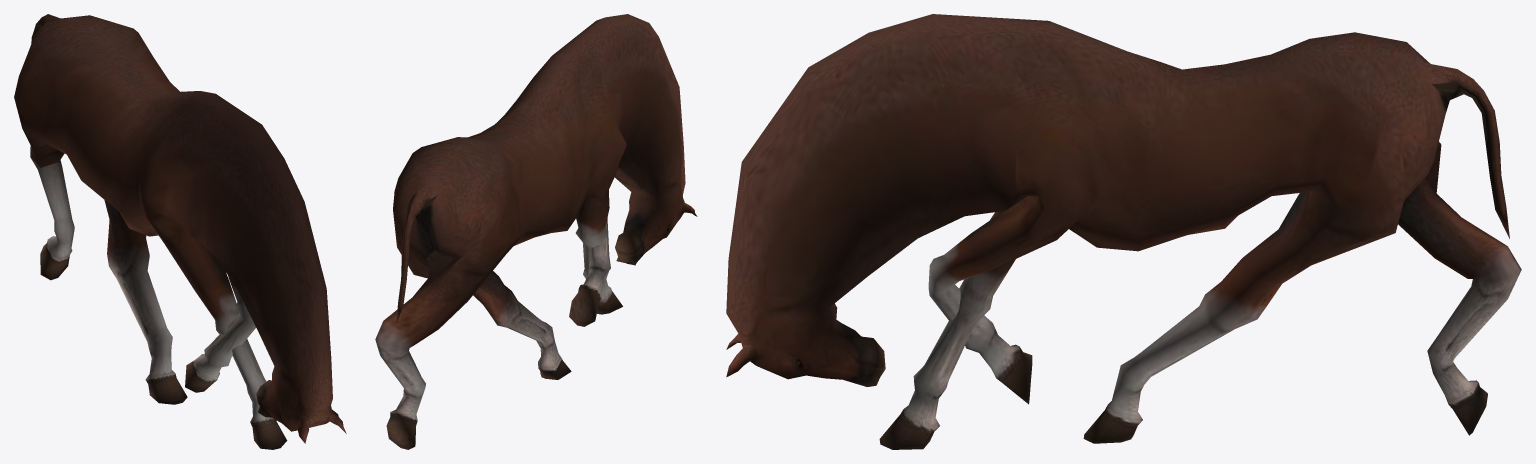
File: horse.glb
The picture shows the model from 3 angles, left to right: view 1: azimuth 30°, elevation 25°; view 2: azimuth 150°, elevation 25°; view 3: azimuth 270°, elevation 25°; orthographic projection. The views are drawn at different scales.
Parts seen in each view (by area): view 1: horse; view 2: horse; view 3: horse.
Boxes of the visible parts, <box> form: horse: <box>14,14,346,449</box>; horse: <box>375,14,697,449</box>; horse: <box>726,14,1521,449</box>.
Size of the model in its own units: 0.6175 by 1.6 by 2.68.
Materials: 1 (1 with a texture image).
